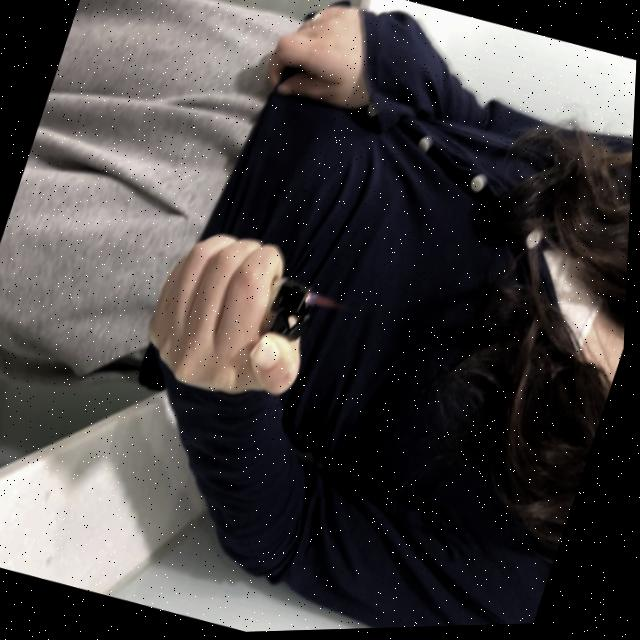Fire: (305, 292, 351, 319)
